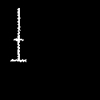double_crochet: (11, 8, 25, 61)
